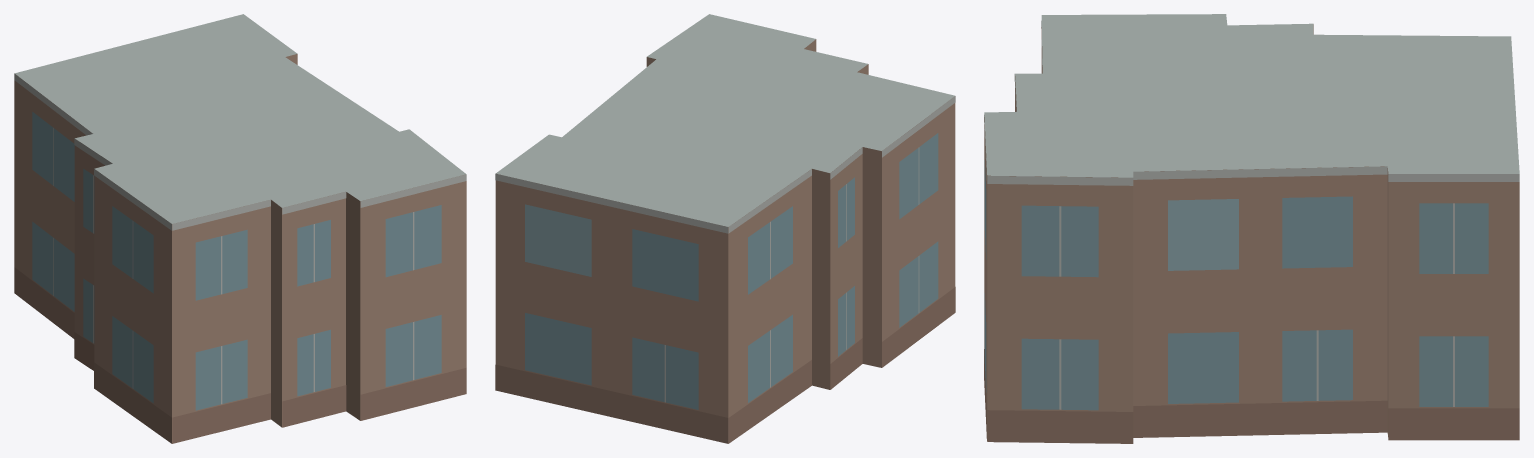
Rendered from survey-upis-32914991.glb.
The picture shows the model from 3 angles, left to right: view 1: azimuth 30°, elevation 25°; view 2: azimuth 150°, elevation 25°; view 3: azimuth 270°, elevation 25°; orthographic projection. The views are drawn at different scales.
Parts seen in each view (by area): view 1: survey-upis-32914991.tmp; view 2: survey-upis-32914991.tmp; view 3: survey-upis-32914991.tmp.
Part boxes in pixels (x1,y1,x2,y2): survey-upis-32914991.tmp: [14, 14, 466, 443]; survey-upis-32914991.tmp: [495, 14, 955, 443]; survey-upis-32914991.tmp: [984, 14, 1519, 443].
Bounding box in the file's own units: 10.42 × 7.9 × 14.41.
